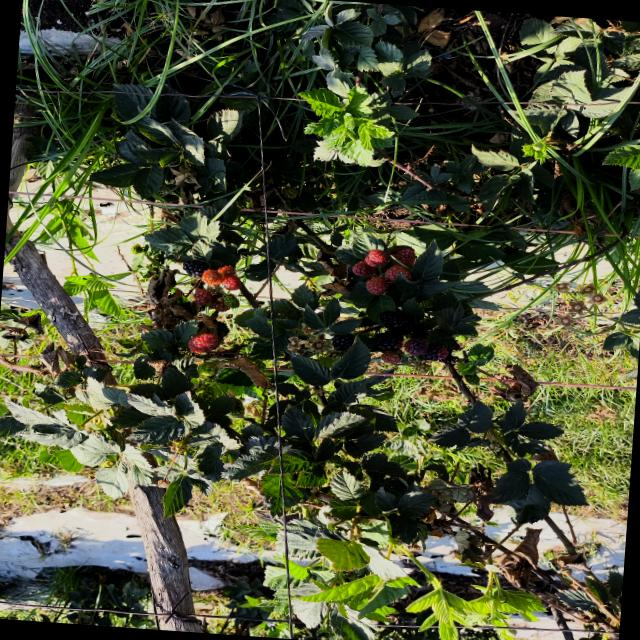maduro: (379, 311, 416, 335), (374, 332, 402, 349), (183, 260, 209, 277), (332, 333, 355, 351)
marron: (404, 337, 429, 355), (422, 344, 448, 361), (380, 349, 401, 364)
naranja: (188, 333, 217, 353), (384, 264, 412, 281), (393, 247, 416, 267), (365, 249, 388, 267), (351, 261, 376, 277), (365, 277, 387, 294), (201, 269, 223, 285), (210, 294, 230, 311), (194, 288, 212, 305), (221, 275, 241, 290), (217, 265, 235, 276)
